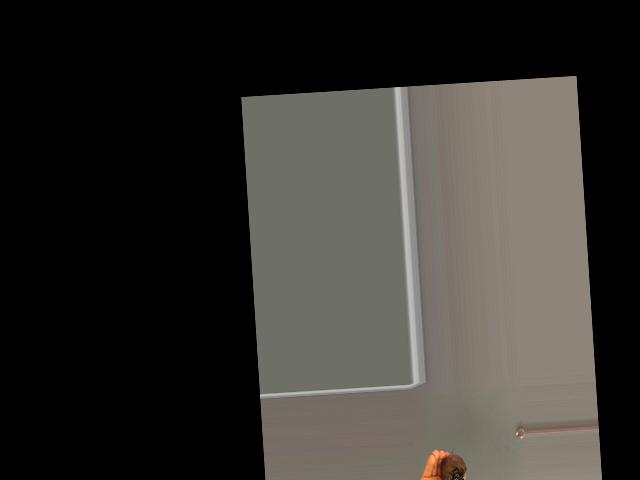beet: (432, 445, 469, 480)
